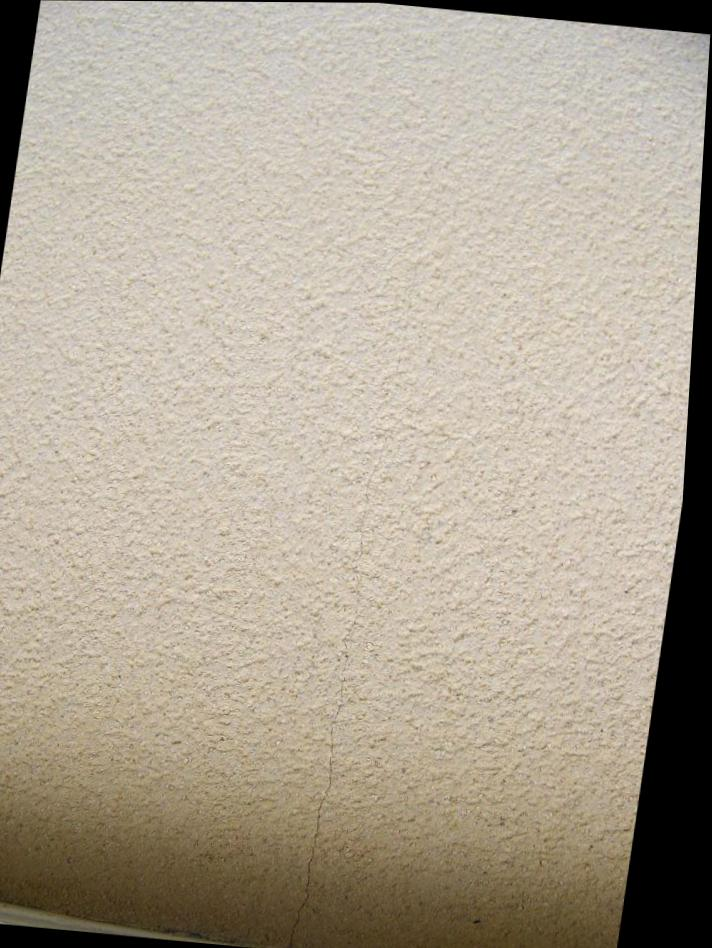crack: (343, 437, 392, 720), (301, 809, 329, 943)
